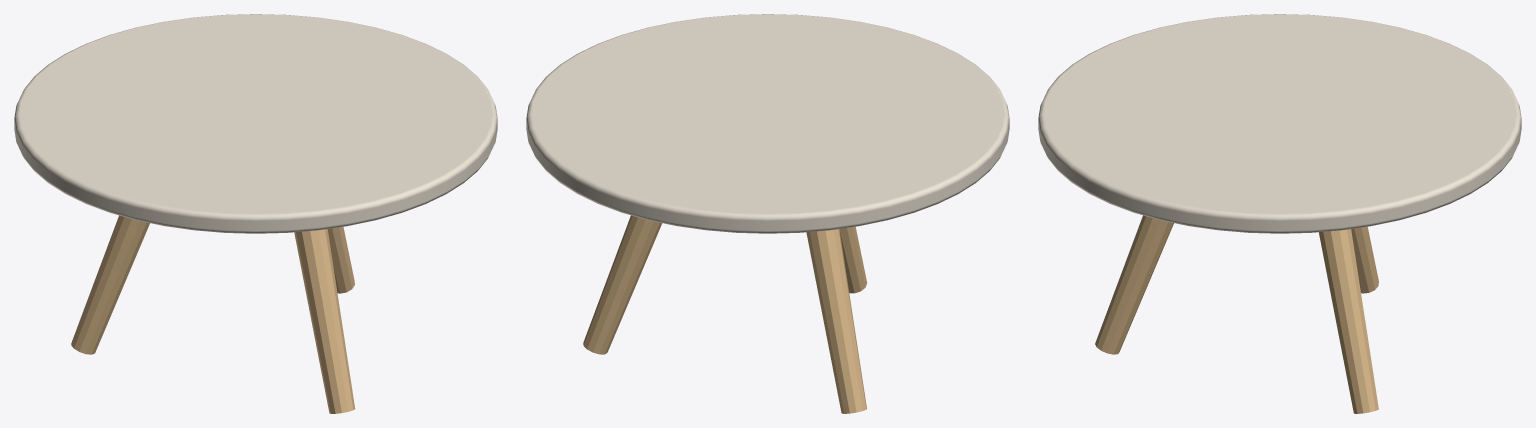
The model's file is table_low_round.glb.
3 views of the same model, side by side, from view 1: azimuth 30°, elevation 25°; view 2: azimuth 150°, elevation 25°; view 3: azimuth 270°, elevation 25° (orthographic).
Parts seen in each view (by area): view 1: table_low_round; view 2: table_low_round; view 3: table_low_round.
Boxes of the visible parts, x1=… form: table_low_round: x1=14, y1=14, x2=497, y2=413; table_low_round: x1=526, y1=14, x2=1009, y2=413; table_low_round: x1=1038, y1=14, x2=1521, y2=413.
Bounding box in the file's own units: 0.7 × 0.38 × 0.7.
